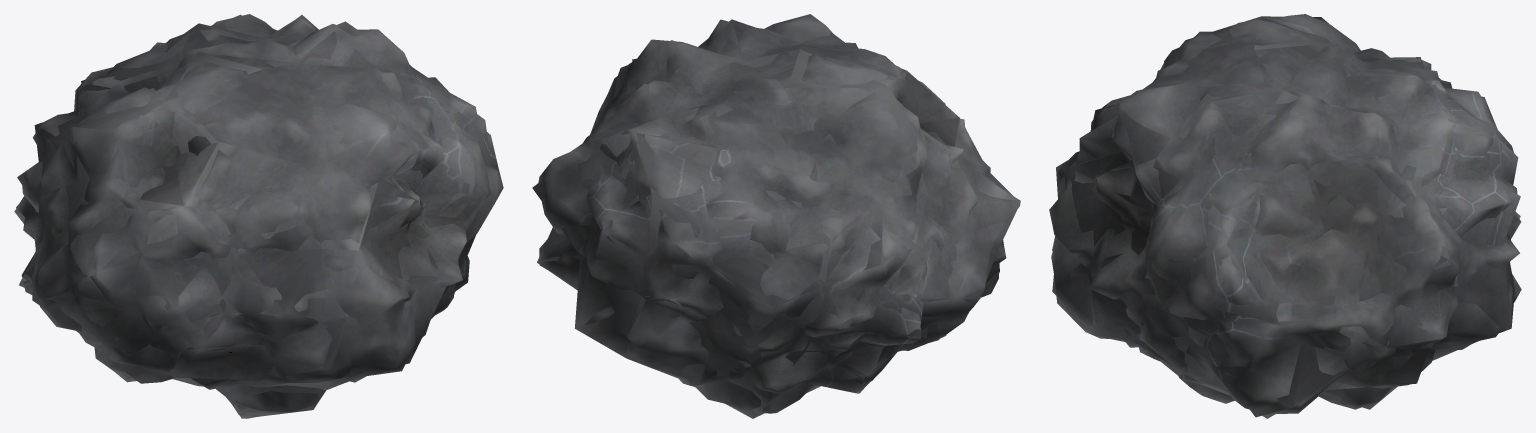
The model's file is asteroid_c.glb.
3 renders of one model, left to right at view 1: azimuth 30°, elevation 25°; view 2: azimuth 150°, elevation 25°; view 3: azimuth 270°, elevation 25°, orthographic. The views are drawn at different scales.
Visible parts, largest first — view 1: Asteroid_C, Asteroid_C_LOD; view 2: Asteroid_C, Asteroid_C_LOD; view 3: Asteroid_C, Asteroid_C_LOD.
Part boxes in pixels (x1=…): Asteroid_C: x1=16, y1=14, x2=503, y2=418; Asteroid_C_LOD: x1=14, y1=14, x2=489, y2=418; Asteroid_C: x1=538, y1=14, x2=1020, y2=413; Asteroid_C_LOD: x1=532, y1=19, x2=1020, y2=418; Asteroid_C: x1=1049, y1=14, x2=1521, y2=416; Asteroid_C_LOD: x1=1052, y1=16, x2=1520, y2=418.
Bounding box in the file's own units: 1.91 × 1.45 × 1.79.
1 material, 1 textured.
